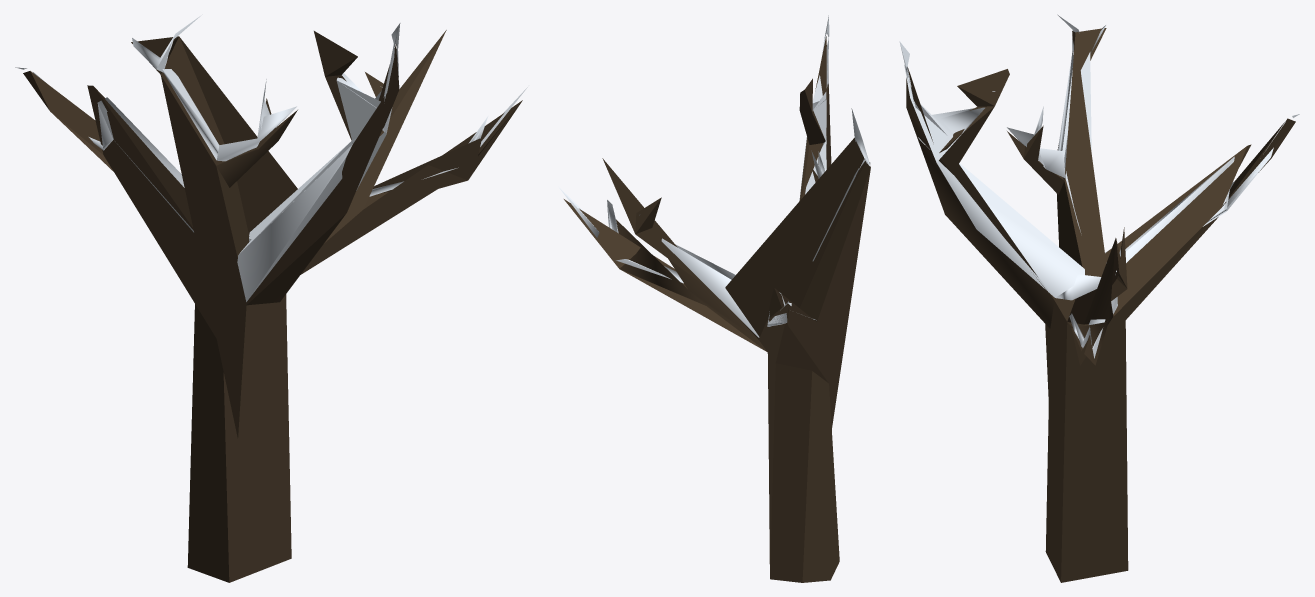
Rendered from Snowy Forest Tree 1 (Low Quality).fbx.
3 renders of one model, left to right at view 1: azimuth 30°, elevation 25°; view 2: azimuth 150°, elevation 25°; view 3: azimuth 270°, elevation 25°, orthographic. The views are drawn at different scales.
Parts seen in each view (by area): view 1: Cube.003; view 2: Cube.003; view 3: Cube.003.
Part boxes in pixels (x1,y1,x2,y2): Cube.003: (15, 14, 527, 582); Cube.003: (559, 15, 870, 582); Cube.003: (899, 14, 1299, 582).
Bounding box in the file's own units: 1241 × 1760 × 1156.
